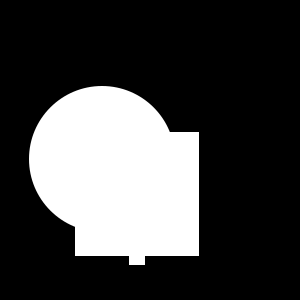circle: (75, 132, 199, 256), (129, 249, 145, 265)
rectangle: (29, 86, 175, 232)
